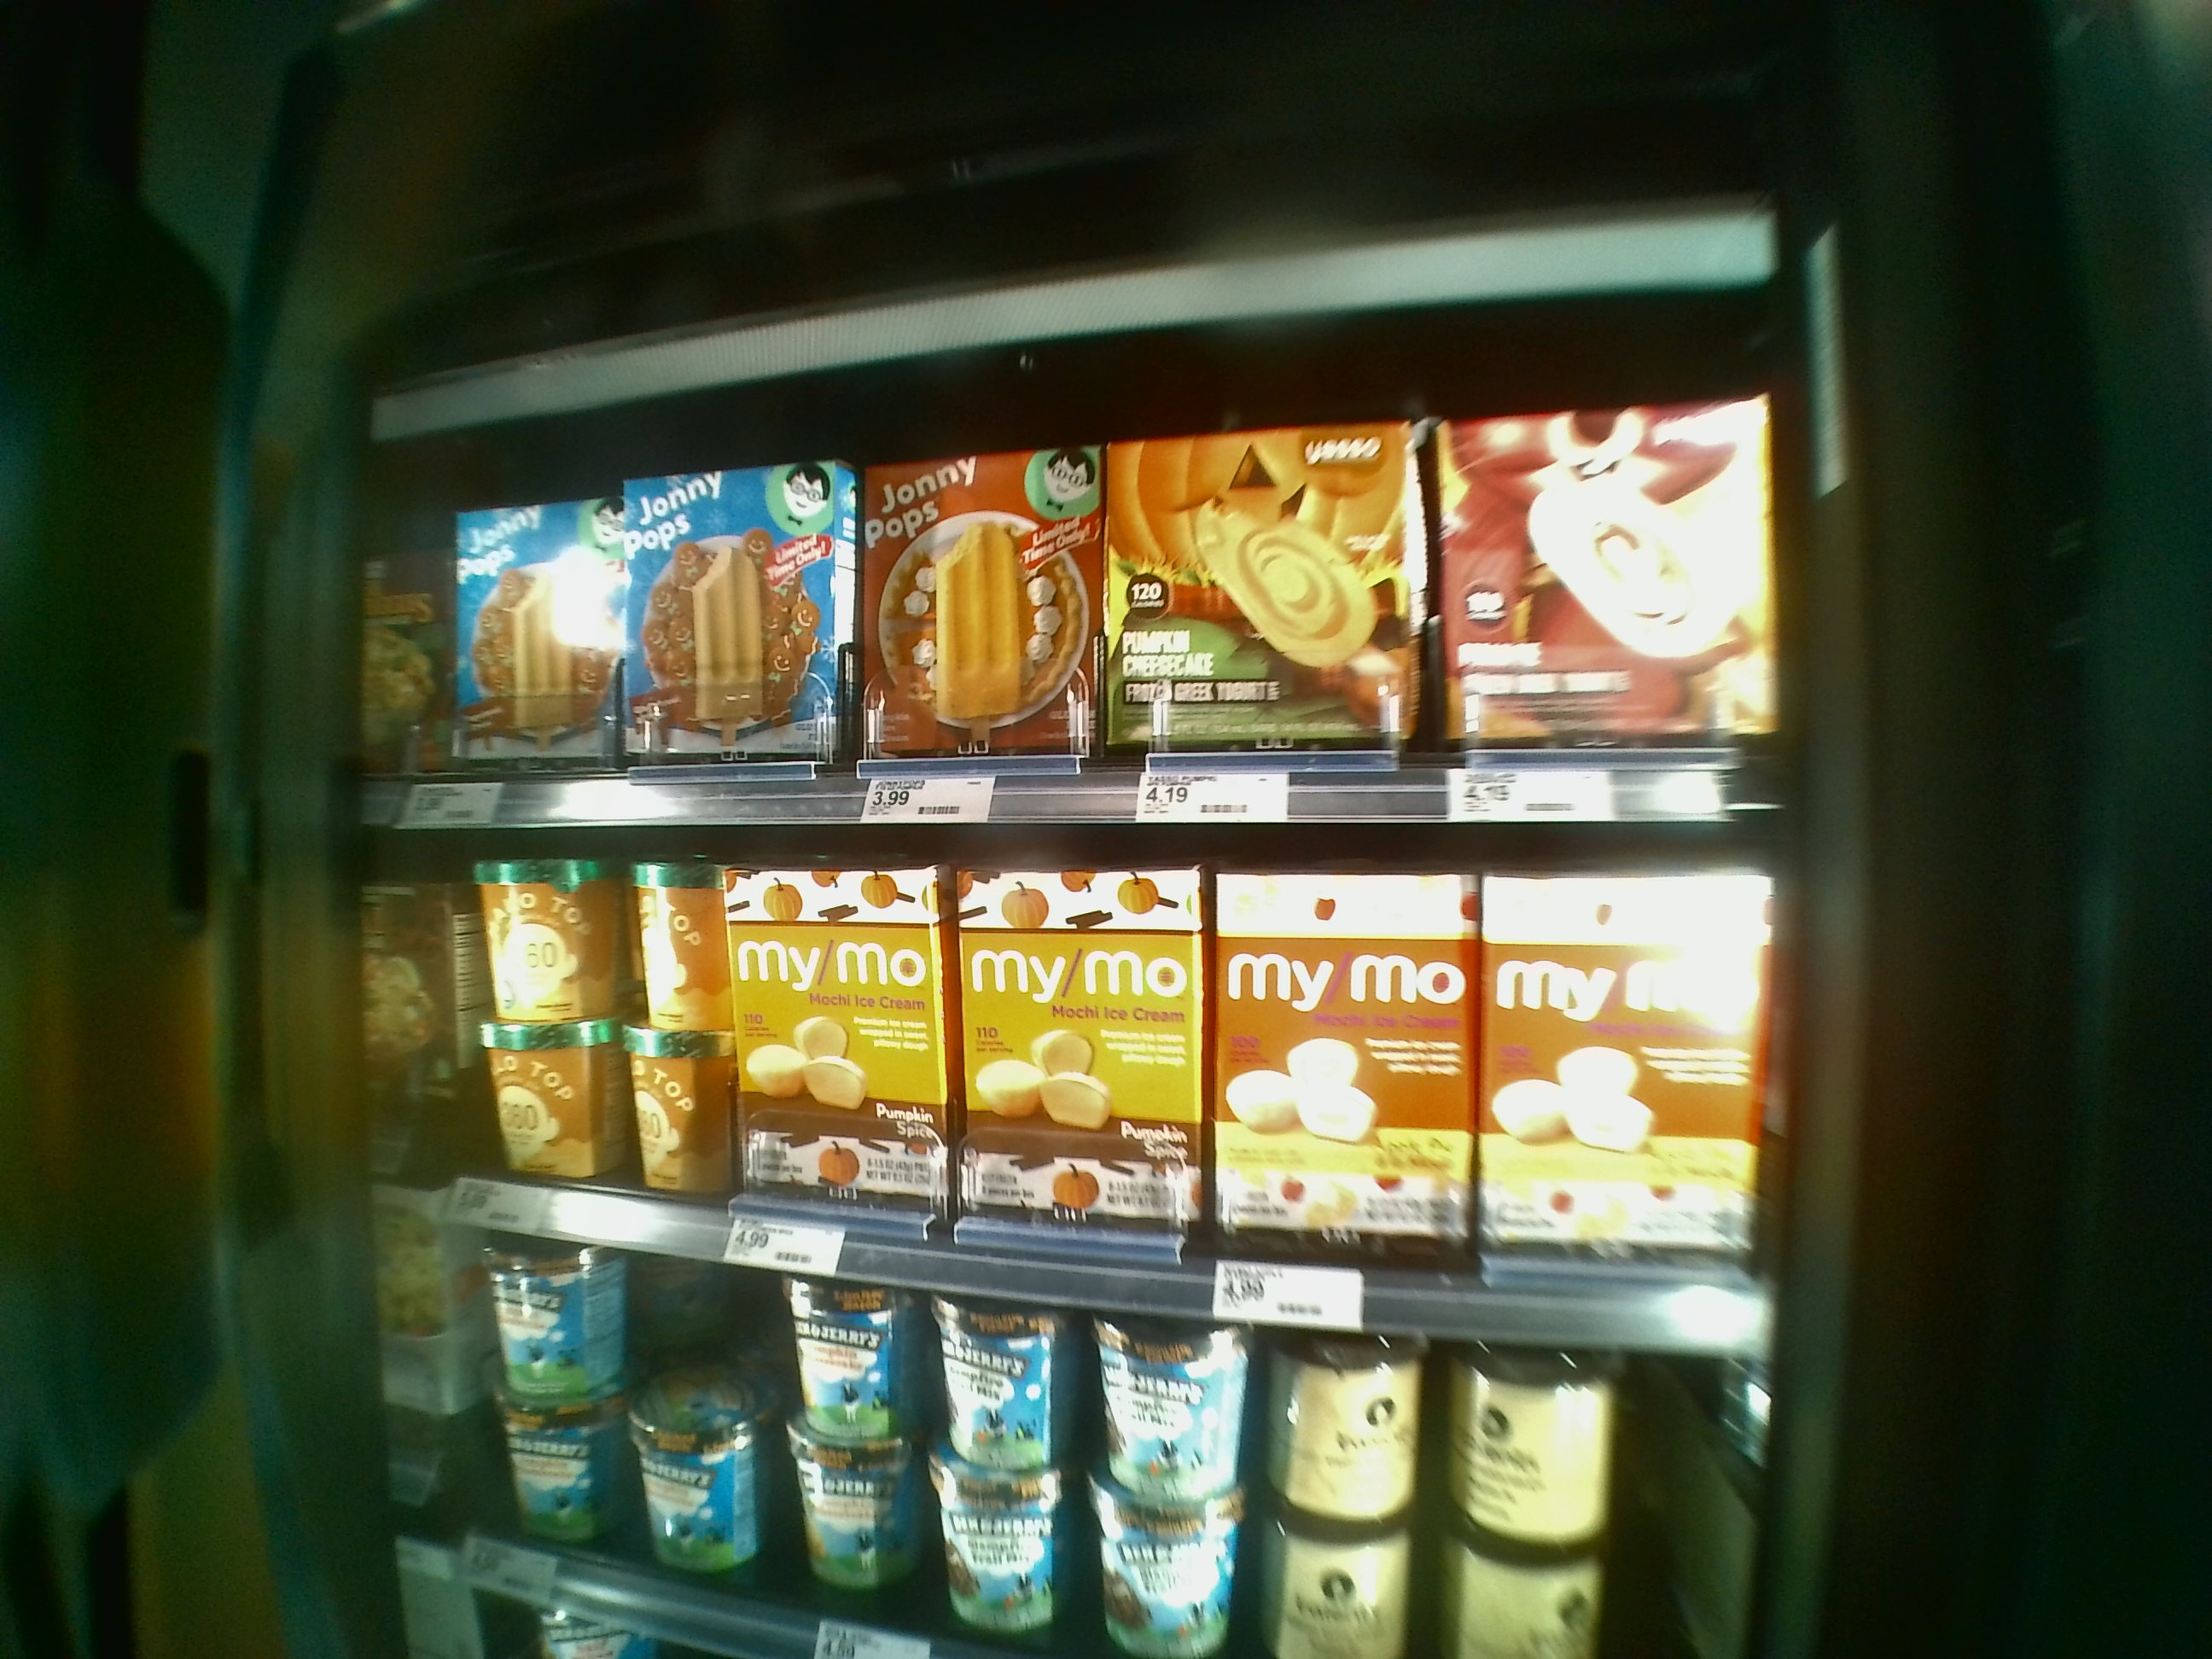shelf: (345, 779, 1778, 1337), (380, 382, 1787, 817)
